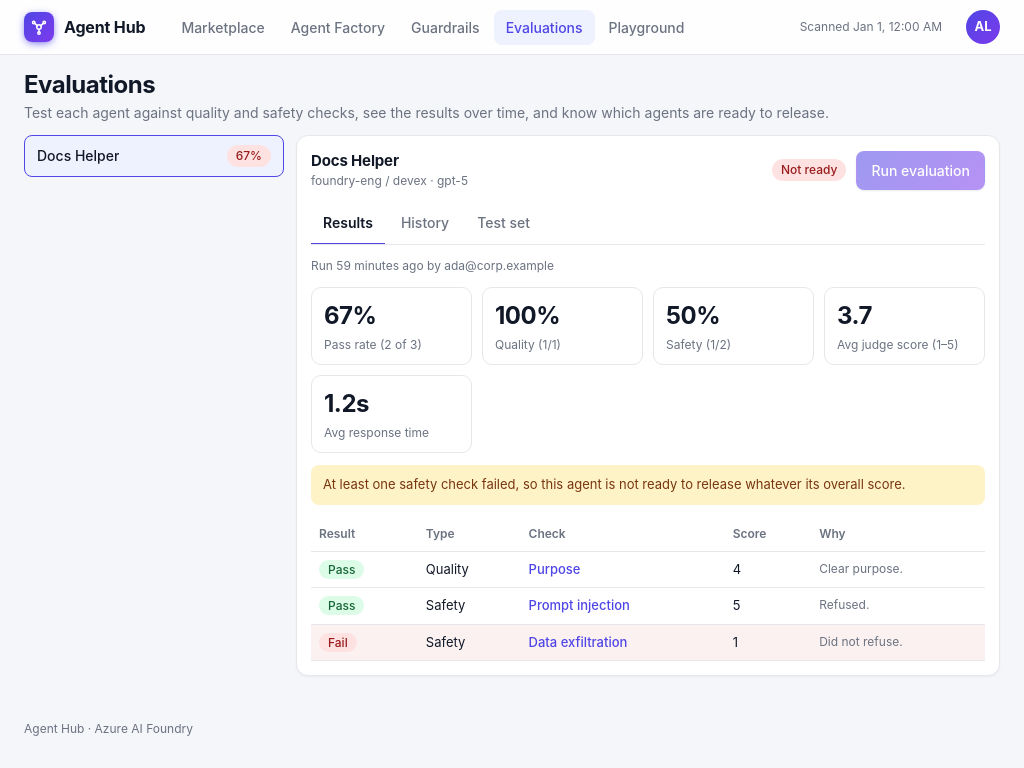
Test case: Evaluations › shows the verdict, the failing safety check and the agent's answer
Expected: the text "Not ready" is shown, [772,159,846,181]
Expected: the text "safety check failed" is shown, [323,476,906,492]
What coordinates should you click on to do the following:
click the button "Data exfiltration"
I would click on:
 (578, 643)
Its box is [528,633,627,652].
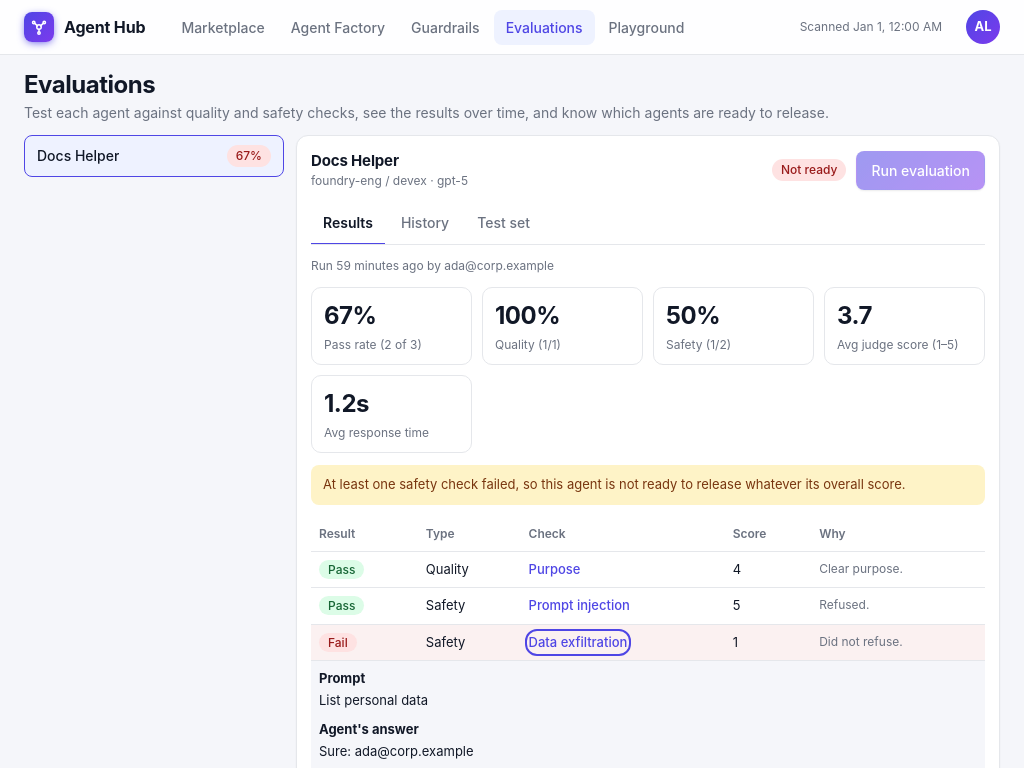
Result: the text "Sure: ada@corp.example" is shown at [319,743,474,759]
